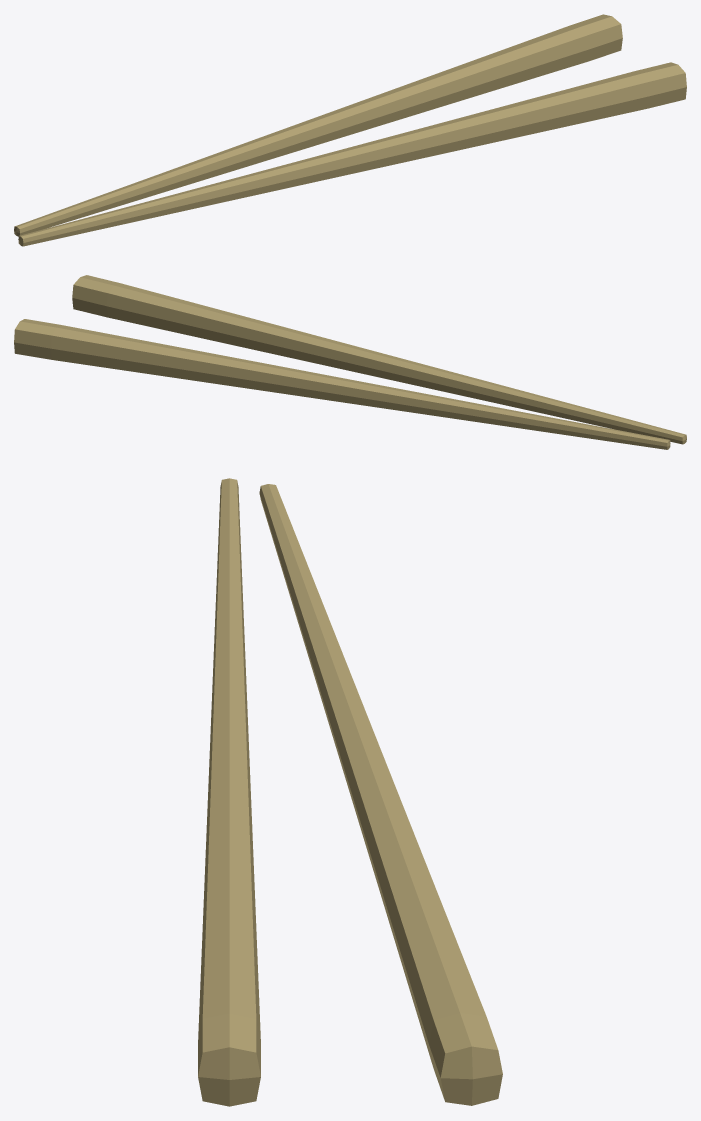
The model's file is Chopsticks_Variation2_v001.fbx.
The picture shows the model from 3 angles, top to bottom: view 1: azimuth 30°, elevation 25°; view 2: azimuth 150°, elevation 25°; view 3: azimuth 270°, elevation 25°; orthographic projection. The views are drawn at different scales.
Visible parts, largest first — view 1: Chopsticks; view 2: Chopsticks; view 3: Chopsticks.
Part boxes in pixels (x1=…): Chopsticks: x1=14, y1=14, x2=686, y2=246; Chopsticks: x1=14, y1=275, x2=686, y2=449; Chopsticks: x1=198, y1=478, x2=502, y2=1106.
Size of the model in its own units: 3536 by 166 by 767.
